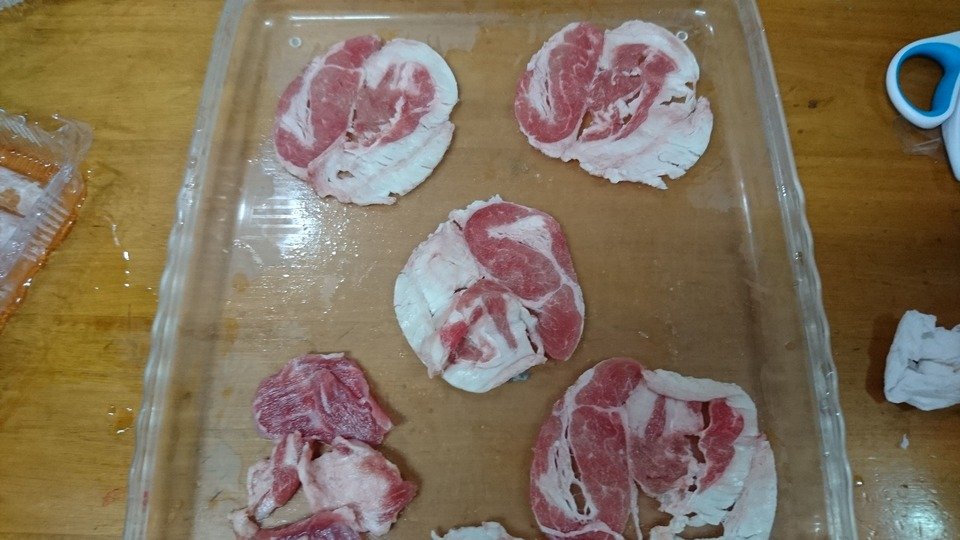restructured meat: (529, 358, 780, 540), (393, 186, 592, 393), (218, 333, 417, 540), (516, 17, 720, 195), (279, 31, 462, 214)
